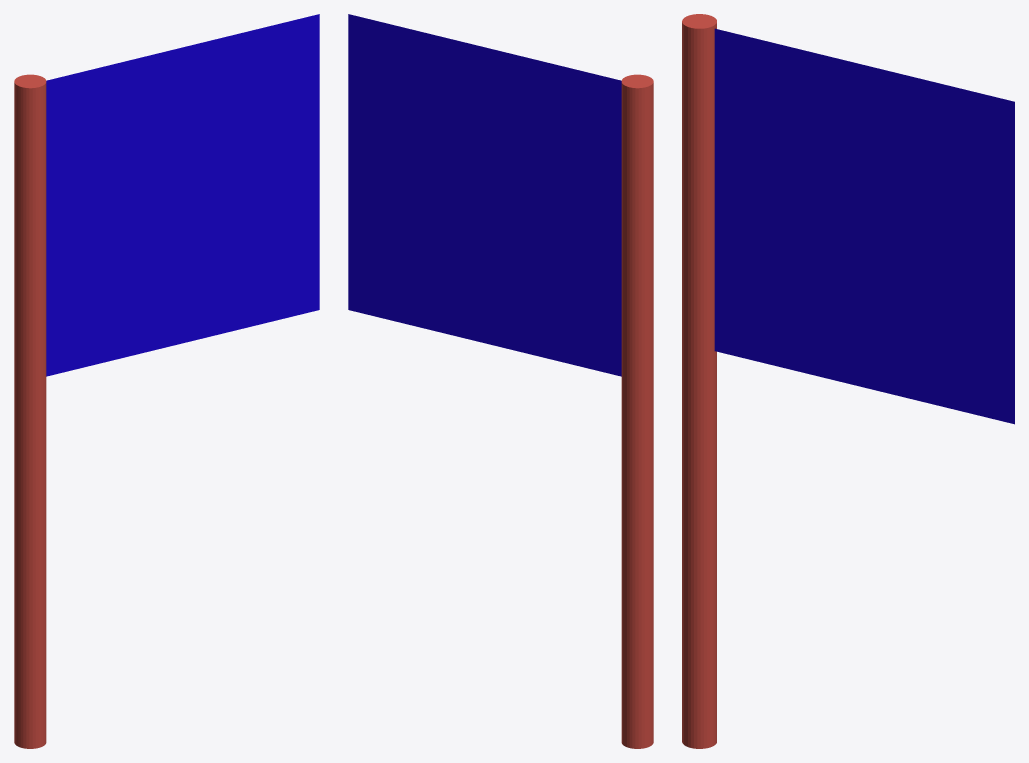
The model's file is flag.fbx.
3 views of the same model, side by side, from view 1: azimuth 30°, elevation 25°; view 2: azimuth 150°, elevation 25°; view 3: azimuth 330°, elevation 25° (orthographic). The views are drawn at different scales.
Visible parts, largest first — view 1: Cylinder; view 2: Cylinder; view 3: Cylinder.
Boxes of the visible parts, box(x1,y1,x2,y2) form: Cylinder: box(14, 14, 319, 748); Cylinder: box(348, 14, 653, 748); Cylinder: box(682, 14, 1014, 748).
Size of the model in its own units: 214 by 446 by 19.72.
